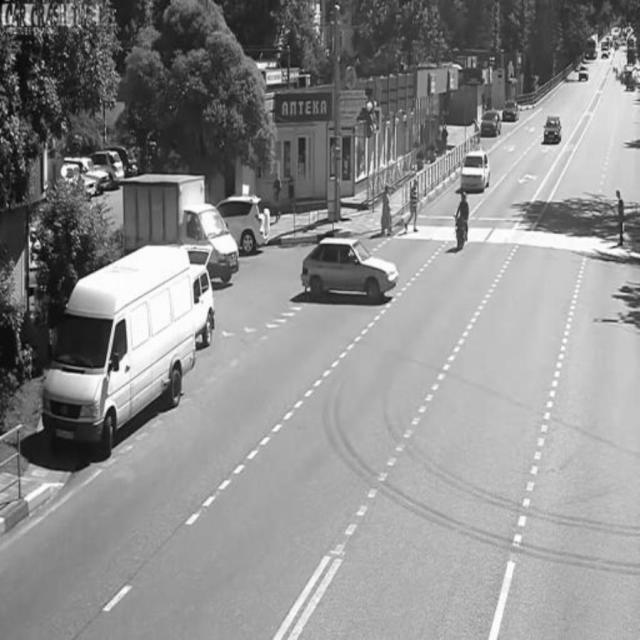person: (403, 174, 423, 235), (612, 179, 628, 255), (378, 177, 394, 232)
vehicle: (42, 248, 190, 456), (122, 174, 240, 276), (296, 237, 398, 301), (220, 195, 271, 253), (461, 148, 493, 193), (453, 192, 473, 250), (542, 114, 564, 149), (477, 106, 502, 136), (501, 94, 523, 121), (577, 62, 591, 82)
